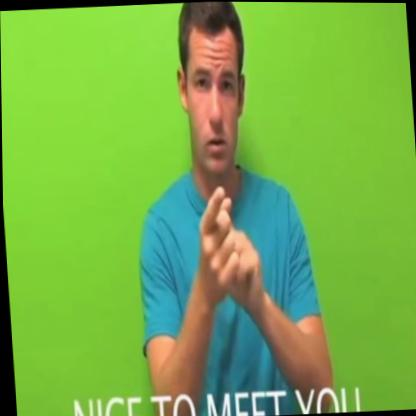NiceToMeetYou: (181, 174, 274, 336)
